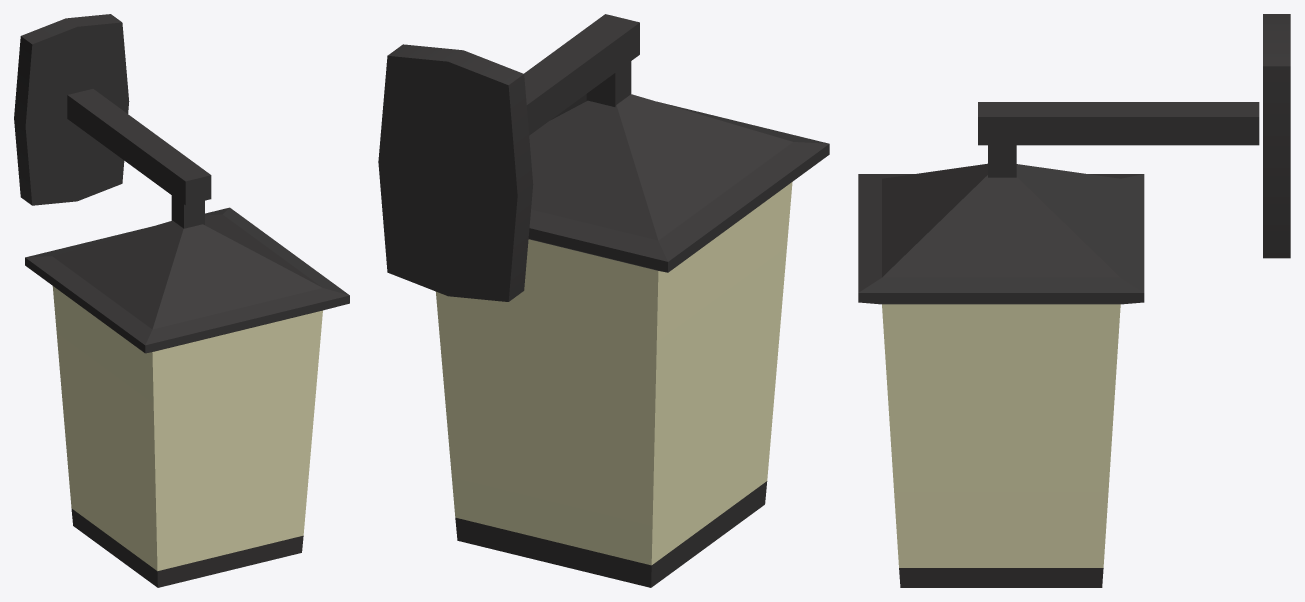
File: Isla_Fantasma_Farolillo.FBX
3 views of the same model, side by side, from view 1: azimuth 30°, elevation 25°; view 2: azimuth 150°, elevation 25°; view 3: azimuth 270°, elevation 25° (orthographic). The views are drawn at different scales.
Parts seen in each view (by area): view 1: Isla_Fantasma_farolillo_000; view 2: Isla_Fantasma_farolillo_000; view 3: Isla_Fantasma_farolillo_000.
Boxes of the visible parts, x1,y1,x2,y2 form: Isla_Fantasma_farolillo_000: (14, 14, 349, 587); Isla_Fantasma_farolillo_000: (378, 14, 829, 587); Isla_Fantasma_farolillo_000: (858, 14, 1290, 587).
Bounding box in the file's own units: 6.41 × 12.93 × 9.86.
1 material, 1 textured.
